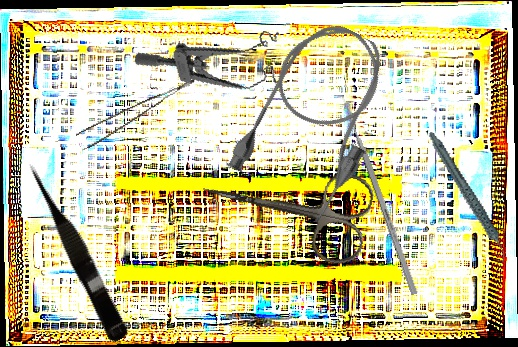Cannula: (220, 7, 413, 229)
Handpiece: (426, 121, 509, 274)
Iris Scissors: (192, 142, 378, 270)
Micro Scissor: (21, 157, 134, 344)
Pusher: (339, 95, 419, 296)
Speculum: (132, 18, 292, 116)
Tissue Forceps: (73, 79, 203, 151)
